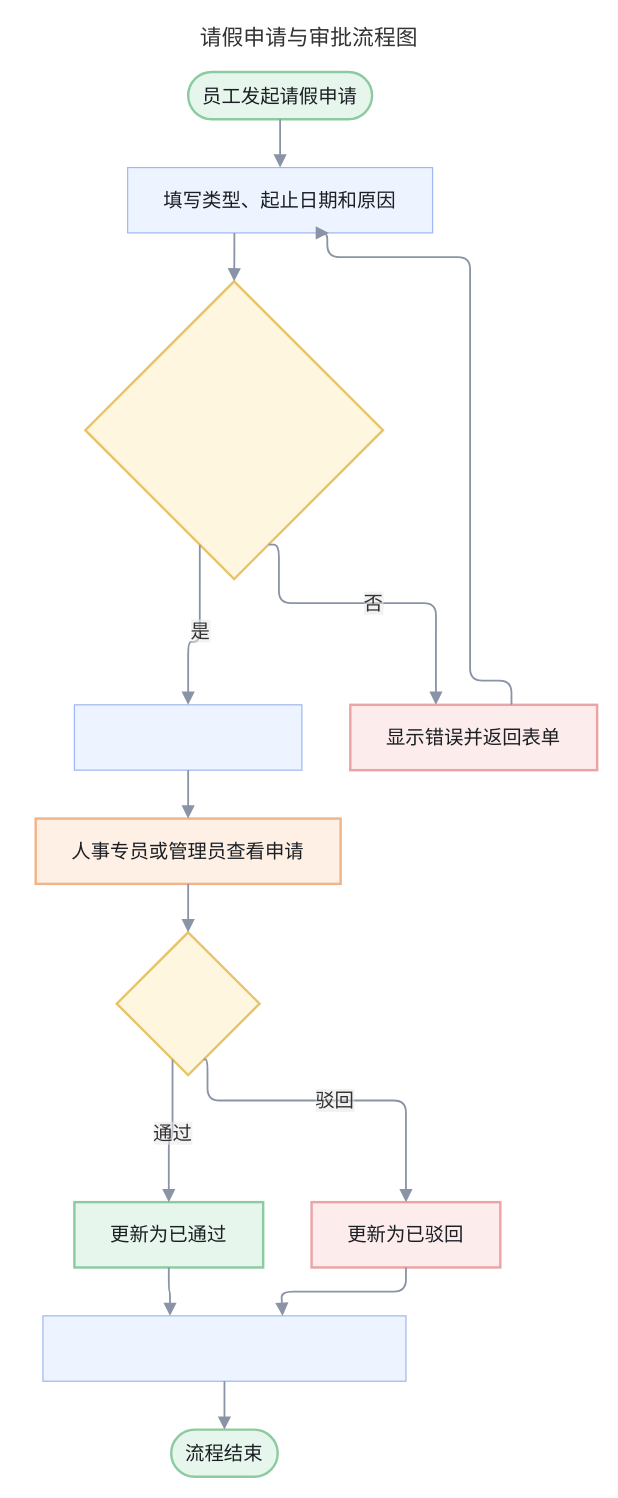
This 618x1498 diagram has some shape labels left out. Each missing label, with the centre of its shape:
保存为待审批状态: point (187, 737)
审批结果: point (187, 1003)
日期与内容是否合法: point (233, 430)
记录审批人、审批时间和审批意见: point (224, 1348)
